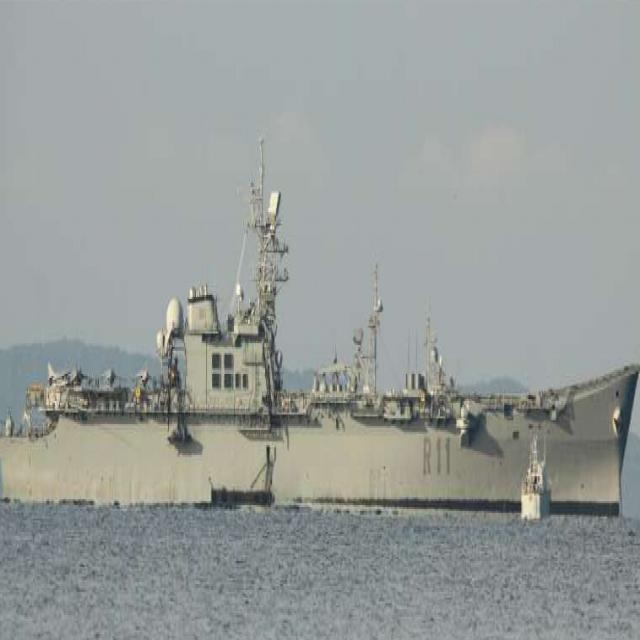Portanaves: (1, 127, 640, 528)
